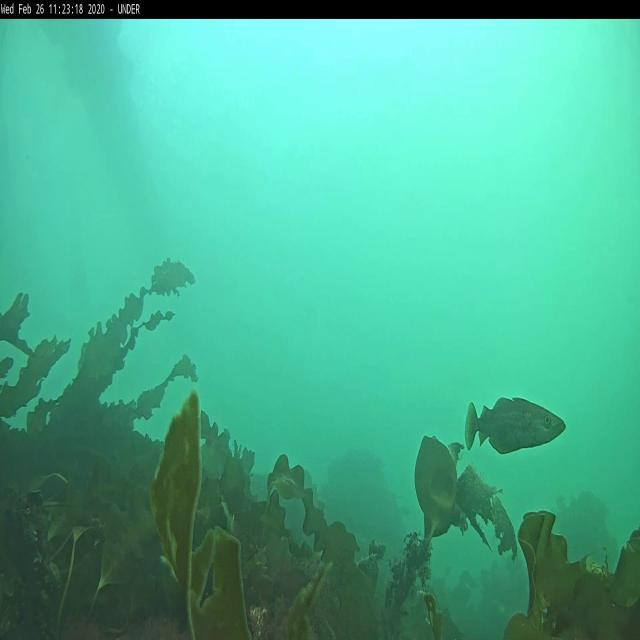fish: (466, 397, 566, 454)
